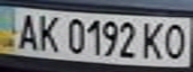0: (63, 16, 87, 55)
1: (81, 16, 103, 56)
2: (118, 18, 142, 60)
9: (100, 18, 121, 57)
A: (12, 10, 42, 51)
K: (33, 11, 63, 53), (139, 19, 169, 61)
O: (160, 20, 190, 61)
